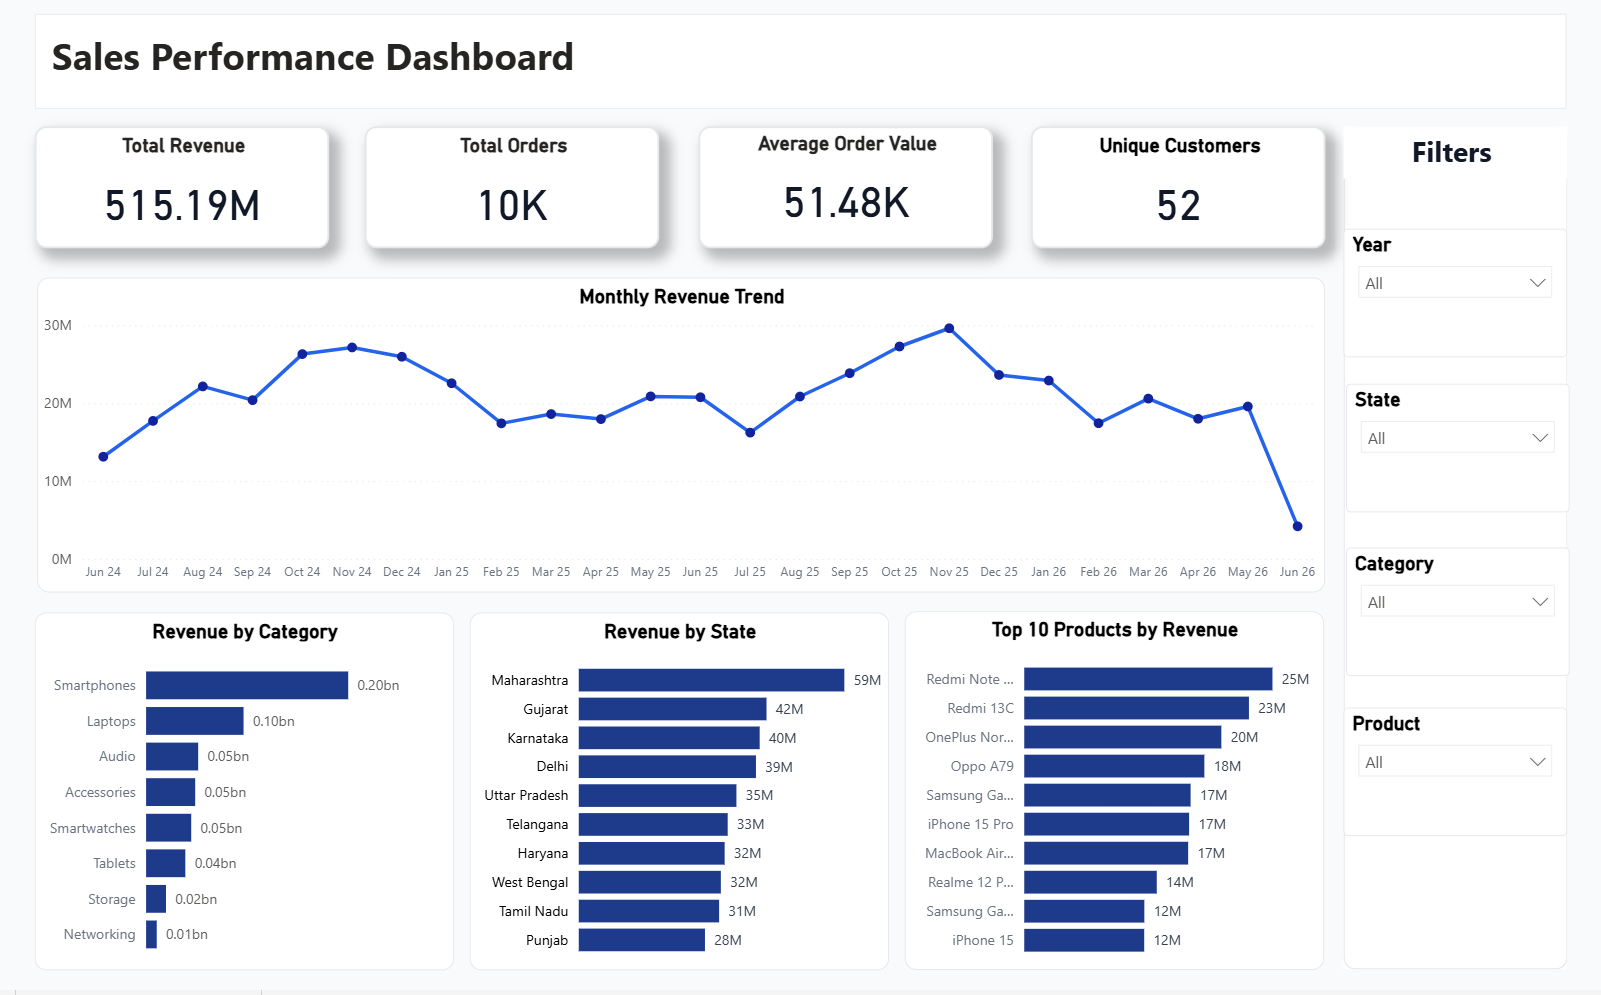

Layout of this report page (visuals, bound fields, positions):
{"tool":"powerbi","page":{"name":"Executive Dashboard","canvas":[1340,850],"ordinal":0},"visuals":[{"type":"shape","box":[1135.2,108.7,192.4,724],"z":0},{"type":"textbox","box":[12.1,12.1,1315.6,81.6],"z":1000},{"type":"card","title":"Total Revenue","fields":{"Values":["Sum(vw_kpi_summary.total_revenue)"]},"box":[11.7,108.7,252.9,105],"z":1000,"group":"g1"},{"type":"card","title":"Total Orders","fields":{"Values":["Sum(vw_kpi_summary.total_orders)"]},"box":[295,108.7,252.9,105],"z":2000,"group":"g1"},{"type":"lineChart","title":"Monthly Revenue Trend","fields":{"Category":["vw_monthly_sales.Month Year"],"Y":["Sum(vw_monthly_sales.monthly_revenue)"]},"box":[13.6,238.6,1105.6,270.4],"z":2000},{"type":"card","title":"Average Order Value","fields":{"Values":["Sum(vw_kpi_summary.average_order_value)"]},"box":[581.6,108.7,252.9,105],"z":3000,"group":"g1"},{"type":"clusteredBarChart","title":"Revenue by State","fields":{"Category":["vw_city_performance.state"],"Y":["Sum(vw_city_performance.total_revenue)"]},"box":[384.8,525.7,360,306.9],"z":3000},{"type":"group","id":"g1","title":"Group 1","box":[11.7,108.7,1108.8,104.3],"z":4000},{"type":"card","title":"Unique Customers","fields":{"Values":["Sum(vw_kpi_summary.unique_customers)"]},"box":[866.6,108.7,252.9,105],"z":4000,"group":"g1"},{"type":"clusteredBarChart","title":"Revenue by Category","fields":{"Category":["vw_product_performance.category"],"Y":["Sum(vw_product_performance.total_revenue)"]},"box":[11.7,525.7,359.8,306.9],"z":5000},{"type":"clusteredBarChart","title":"Top 10 Products by Revenue","fields":{"Category":["vw_product_performance.product_name"],"Y":["Sum(vw_product_performance.total_revenue)"]},"box":[759.2,524.3,359.8,308.4],"z":6000},{"type":"textbox","box":[1135.2,108.7,192.4,45],"z":7000},{"type":"slicer","title":"Year","fields":{"Values":["vw_sales_enriched.sale_year"]},"box":[1135.8,196.4,191.8,110.3],"z":8000},{"type":"slicer","title":"State ","fields":{"Values":["vw_sales_enriched.state"]},"box":[1137.3,329.3,191.8,110.3],"z":9000},{"type":"slicer","title":"Category","fields":{"Values":["vw_sales_enriched.category"]},"box":[1137.3,469.7,191.8,110.3],"z":10000},{"type":"slicer","title":"Product ","fields":{"Values":["vw_sales_enriched.product_name"]},"box":[1135.8,607.2,191.8,110.3],"z":11000}]}

Visuals, with their boxes in screenshot pixels (x1, y1, x2, y2), scaled from the page's 1340x850 canvas onto the 1601x995 screenshot:
shape: {"x1": 1356, "y1": 127, "x2": 1586, "y2": 975}
textbox: {"x1": 14, "y1": 14, "x2": 1586, "y2": 110}
"Total Revenue" card: {"x1": 14, "y1": 127, "x2": 316, "y2": 250}
"Total Orders" card: {"x1": 352, "y1": 127, "x2": 655, "y2": 250}
"Monthly Revenue Trend" lineChart: {"x1": 16, "y1": 279, "x2": 1337, "y2": 596}
"Average Order Value" card: {"x1": 695, "y1": 127, "x2": 997, "y2": 250}
"Revenue by State" clusteredBarChart: {"x1": 460, "y1": 615, "x2": 890, "y2": 975}
"Group 1" group: {"x1": 14, "y1": 127, "x2": 1339, "y2": 249}
"Unique Customers" card: {"x1": 1035, "y1": 127, "x2": 1338, "y2": 250}
"Revenue by Category" clusteredBarChart: {"x1": 14, "y1": 615, "x2": 444, "y2": 975}
"Top 10 Products by Revenue" clusteredBarChart: {"x1": 907, "y1": 614, "x2": 1337, "y2": 975}
textbox: {"x1": 1356, "y1": 127, "x2": 1586, "y2": 180}
"Year" slicer: {"x1": 1357, "y1": 230, "x2": 1586, "y2": 359}
"State " slicer: {"x1": 1359, "y1": 385, "x2": 1588, "y2": 515}
"Category" slicer: {"x1": 1359, "y1": 550, "x2": 1588, "y2": 679}
"Product " slicer: {"x1": 1357, "y1": 711, "x2": 1586, "y2": 840}
